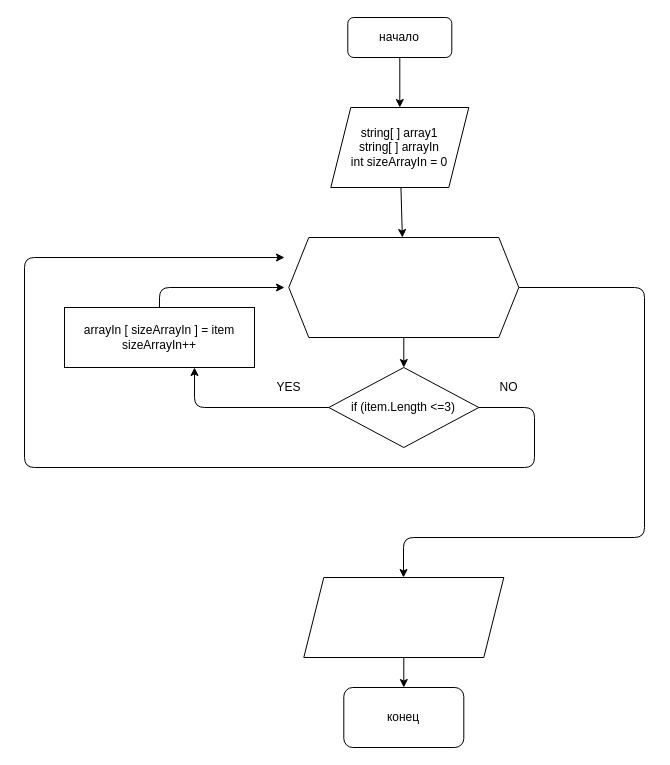
Image size: 670x765. Some labels were removed from this diagram. The shapes that lost their labels are listed below. From the top down, each one's centre as x and y in pixels, then its label:
the point at 403,287: foreach ( var item in array1 )
the point at 403,617: PrintArray ( arrayIn )
